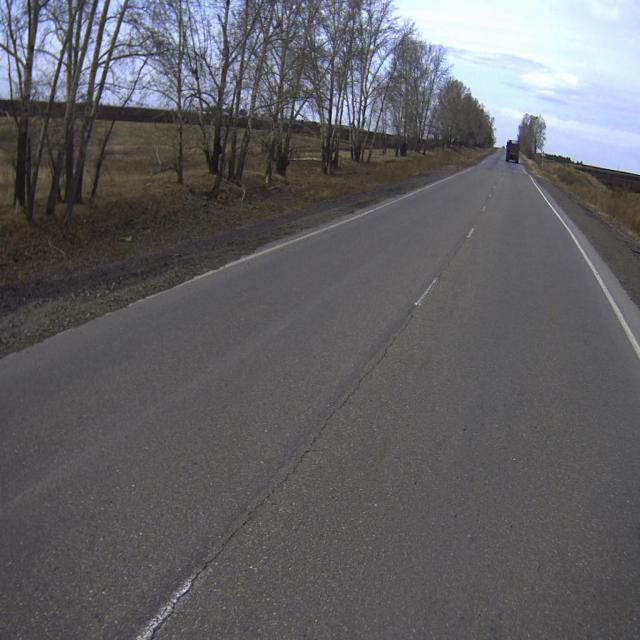road: (0, 148, 640, 639)
